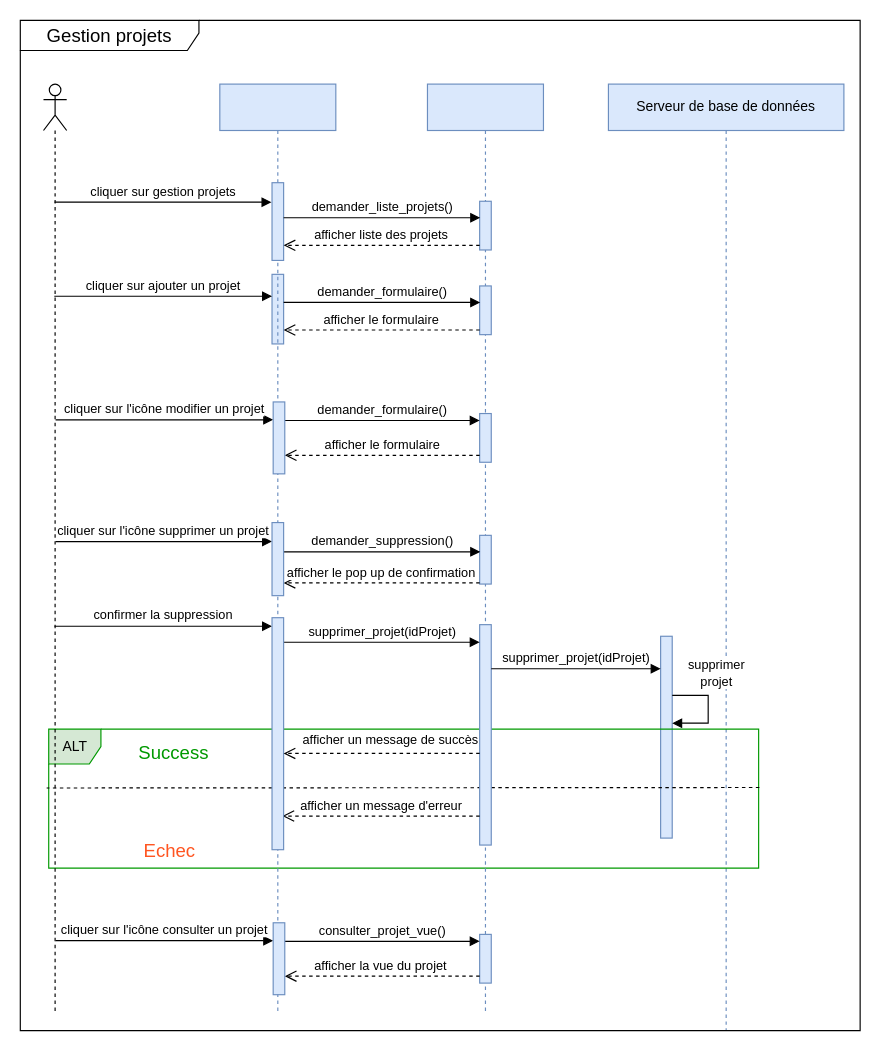
Some shapes in this 880 by 1051 pixel diagram are drawn without their labels. The shapes that lost their labels are listed below. From the top down, each one's centre as x and y in pixels, then its label:
At (277,547): "IHM".
At (484,547): "Serveur d'application".
